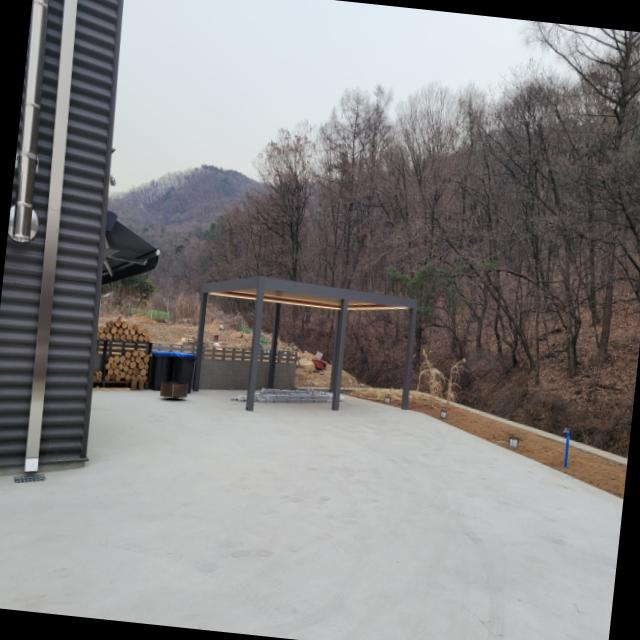cement: (0, 391, 623, 640)
red-sand: (411, 397, 627, 497)
